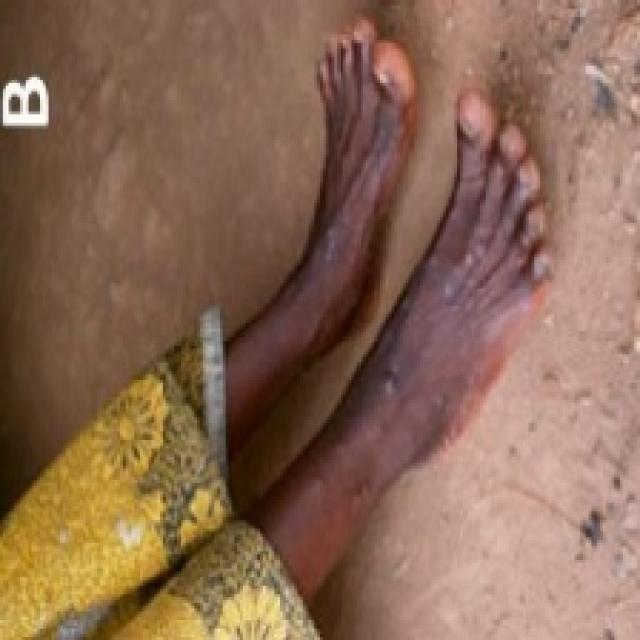Eczema: (376, 258, 491, 398), (308, 103, 393, 279)
